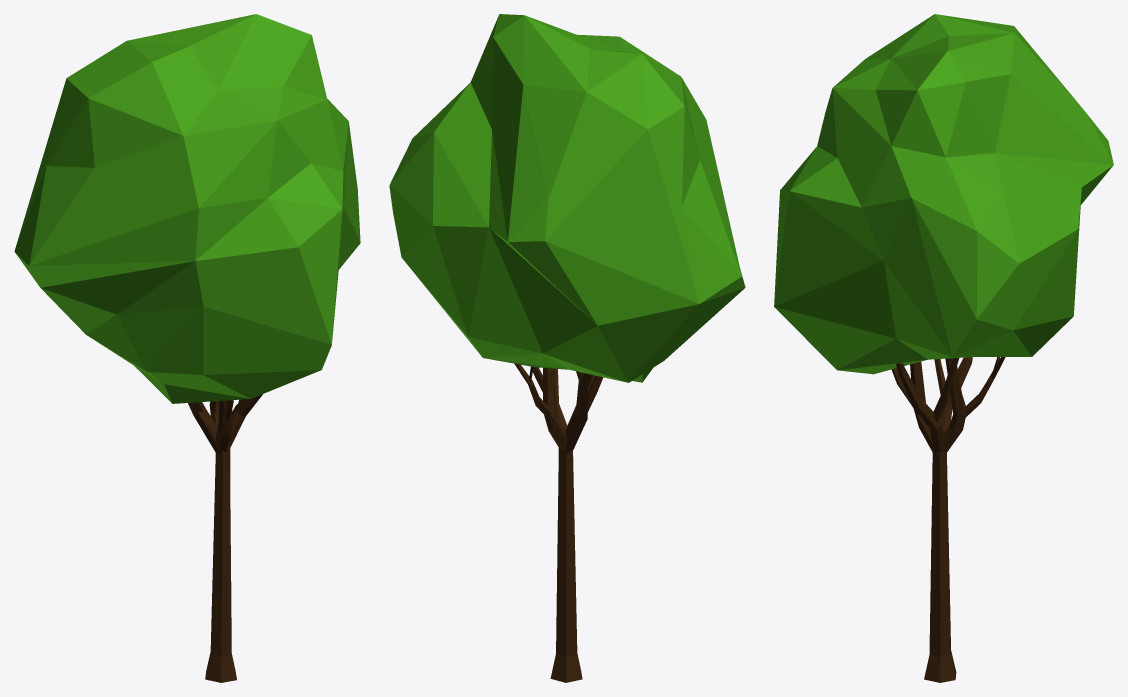
Rendered from Tree03.fbx.
3 views of the same model, side by side, from view 1: azimuth 30°, elevation 25°; view 2: azimuth 150°, elevation 25°; view 3: azimuth 270°, elevation 25° (orthographic).
Parts seen in each view (by area): view 1: Tree03; view 2: Tree03; view 3: Tree03.
Boxes of the visible parts, left/top/right/bottom form: Tree03: left=14, top=14, right=360, bottom=682; Tree03: left=389, top=14, right=745, bottom=682; Tree03: left=774, top=14, right=1113, bottom=682.
Size of what is drawn, in the model's own units: 443 by 814 by 390.
